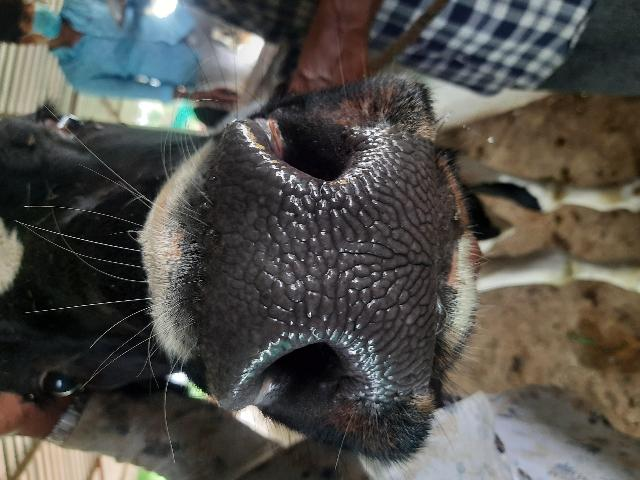Muzzle: (209, 170, 433, 359)
